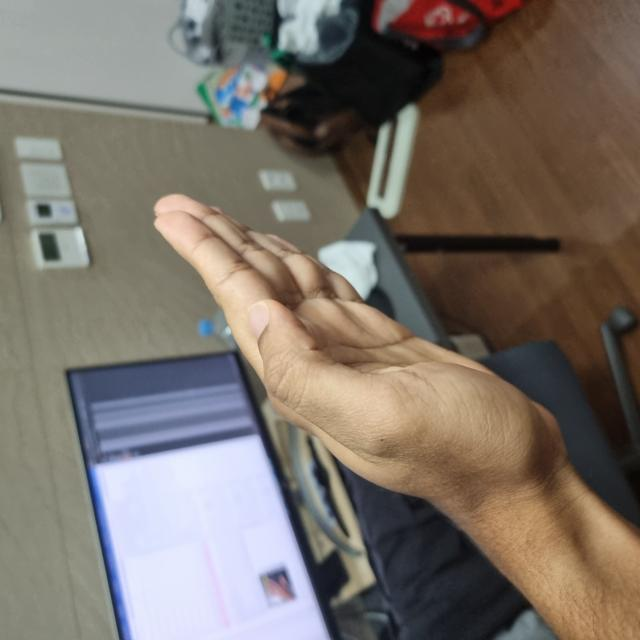Paper: (133, 157, 446, 547)
